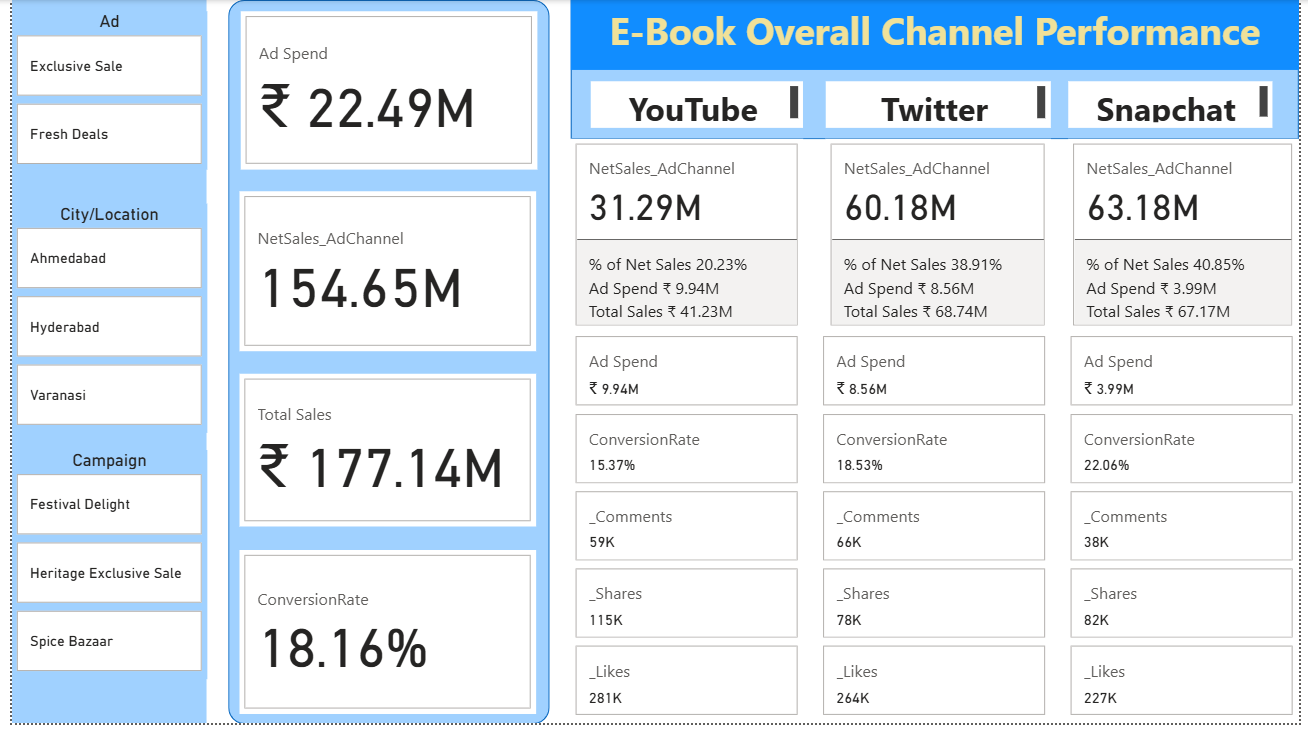

Layout of this report page (visuals, bound fields, positions):
{"tool":"powerbi","page":{"name":"Overall Campaign Analysis","canvas":[1280,720],"ordinal":0},"visuals":[{"type":"shape","box":[215.4,0,319.7,720.4],"z":0},{"type":"textbox","box":[0,0,193.5,720.4],"z":1000},{"type":"cardVisual","fields":{"Data":["A_Measure.Ad Spend"]},"box":[227.8,11,295,157.8],"z":2000},{"type":"cardVisual","fields":{"Data":["A_Measure.NetSales_AdChannel"]},"box":[226.4,190.7,295,159.2],"z":3000},{"type":"cardVisual","fields":{"Data":["A_Measure.Total Sales"]},"box":[226.4,371.9,295,152.3],"z":4000},{"type":"cardVisual","fields":{"Data":["A_Measure.ConversionRate"]},"box":[226.4,547.5,295,163.3],"z":5000},{"type":"shape","box":[555.7,0,724.5,138.6],"z":6000},{"type":"textbox","box":[555.7,0,724.5,70],"z":7000},{"type":"textbox","box":[576.3,81,211.3,46.7],"z":8000},{"type":"textbox","box":[809.6,81,223.7,46.7],"z":9000},{"type":"textbox","box":[1051.1,81,203.1,46.7],"z":10000},{"type":"cardVisual","fields":{"Data":["A_Measure.NetSales_AdChannel"]},"box":[556,138.1,231.4,191.6],"z":11000},{"type":"cardVisual","fields":{"Data":["A_Measure.NetSales_AdChannel"]},"box":[809.8,138.1,223.9,191.6],"z":12000},{"type":"cardVisual","fields":{"Data":["A_Measure.NetSales_AdChannel"]},"box":[1051.1,138.1,228.9,191.6],"z":13000},{"type":"cardVisual","fields":{"Data":["A_Measure.Ad Spend","A_Measure.ConversionRate","A_Measure._Comments","A_Measure._Shares","A_Measure._Likes"]},"box":[556,329.6,231.4,390.6],"z":14000},{"type":"cardVisual","fields":{"Data":["A_Measure.Ad Spend","A_Measure.ConversionRate","A_Measure._Comments","A_Measure._Shares","A_Measure._Likes"]},"box":[802.4,329.6,231.4,390.6],"z":15000},{"type":"cardVisual","fields":{"Data":["A_Measure.Ad Spend","A_Measure.ConversionRate","A_Measure._Comments","A_Measure._Shares","A_Measure._Likes"]},"box":[1048.7,329.6,231.4,390.6],"z":16000},{"type":"advancedSlicerVisual","fields":{"Values":["PageTurner Digital Marketing Campaign - data.Ad"]},"box":[0,11.2,194.1,158],"z":17000},{"type":"advancedSlicerVisual","fields":{"Values":["PageTurner Digital Marketing Campaign - data.City/Location"]},"box":[0,202.8,194.1,227.6],"z":18000},{"type":"advancedSlicerVisual","fields":{"Values":["PageTurner Digital Marketing Campaign - data.Campaign"]},"box":[0,447.8,194.1,227.6],"z":19000}]}

Visuals, with their boxes in screenshot pixels (x1, y1, x2, y2), scaled from the page's 1280x720 canvas onto the 1308x729 screenshot:
shape: left=220, top=0, right=547, bottom=728
textbox: left=0, top=0, right=198, bottom=728
cardVisual - A_Measure.Ad Spend: left=233, top=11, right=534, bottom=171
cardVisual - A_Measure.NetSales_AdChannel: left=231, top=193, right=533, bottom=354
cardVisual - A_Measure.Total Sales: left=231, top=377, right=533, bottom=531
cardVisual - A_Measure.ConversionRate: left=231, top=554, right=533, bottom=720
shape: left=568, top=0, right=1307, bottom=140
textbox: left=568, top=0, right=1307, bottom=71
textbox: left=589, top=82, right=805, bottom=129
textbox: left=827, top=82, right=1056, bottom=129
textbox: left=1074, top=82, right=1282, bottom=129
cardVisual - A_Measure.NetSales_AdChannel: left=568, top=140, right=805, bottom=334
cardVisual - A_Measure.NetSales_AdChannel: left=828, top=140, right=1056, bottom=334
cardVisual - A_Measure.NetSales_AdChannel: left=1074, top=140, right=1307, bottom=334
cardVisual - A_Measure.Ad Spend x A_Measure.ConversionRate: left=568, top=334, right=805, bottom=728
cardVisual - A_Measure.Ad Spend x A_Measure.ConversionRate: left=820, top=334, right=1056, bottom=728
cardVisual - A_Measure.Ad Spend x A_Measure.ConversionRate: left=1072, top=334, right=1307, bottom=728
advancedSlicerVisual - PageTurner Digital Marketing Campaign - data.Ad: left=0, top=11, right=198, bottom=171
advancedSlicerVisual - PageTurner Digital Marketing Campaign - data.City/Location: left=0, top=205, right=198, bottom=436
advancedSlicerVisual - PageTurner Digital Marketing Campaign - data.Campaign: left=0, top=453, right=198, bottom=684
